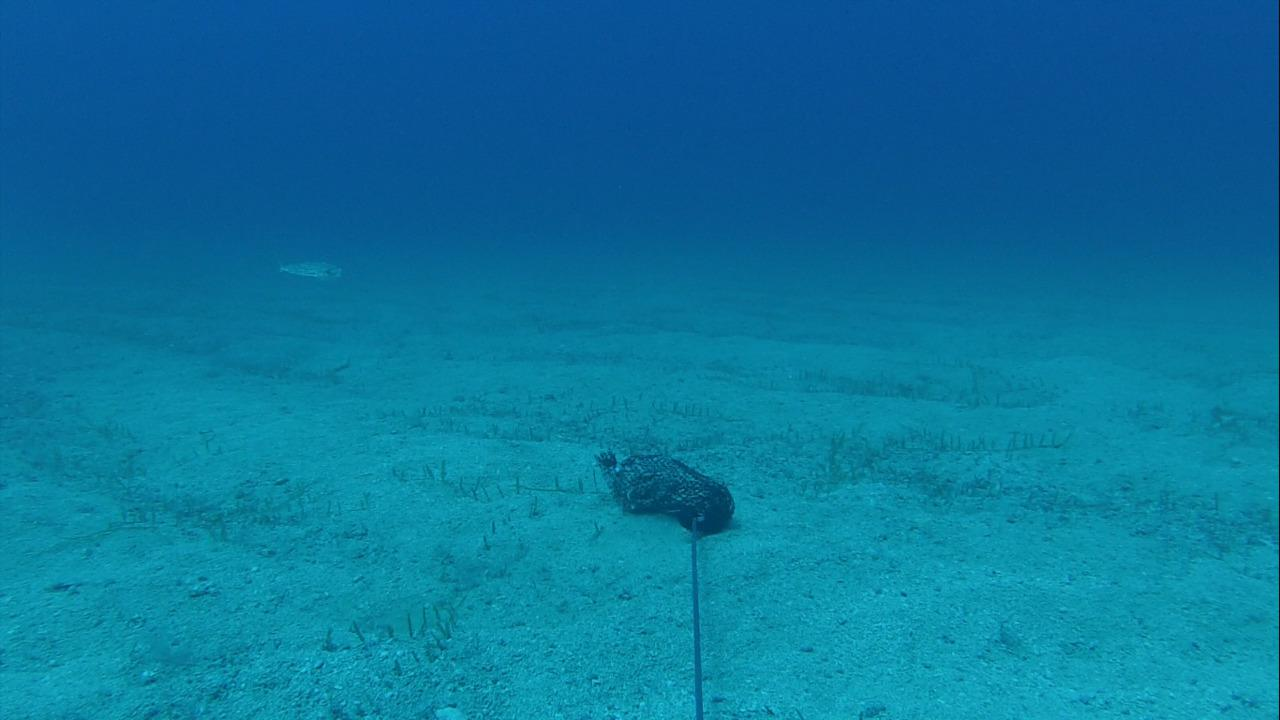dactylopterus: (262, 253, 353, 290)
